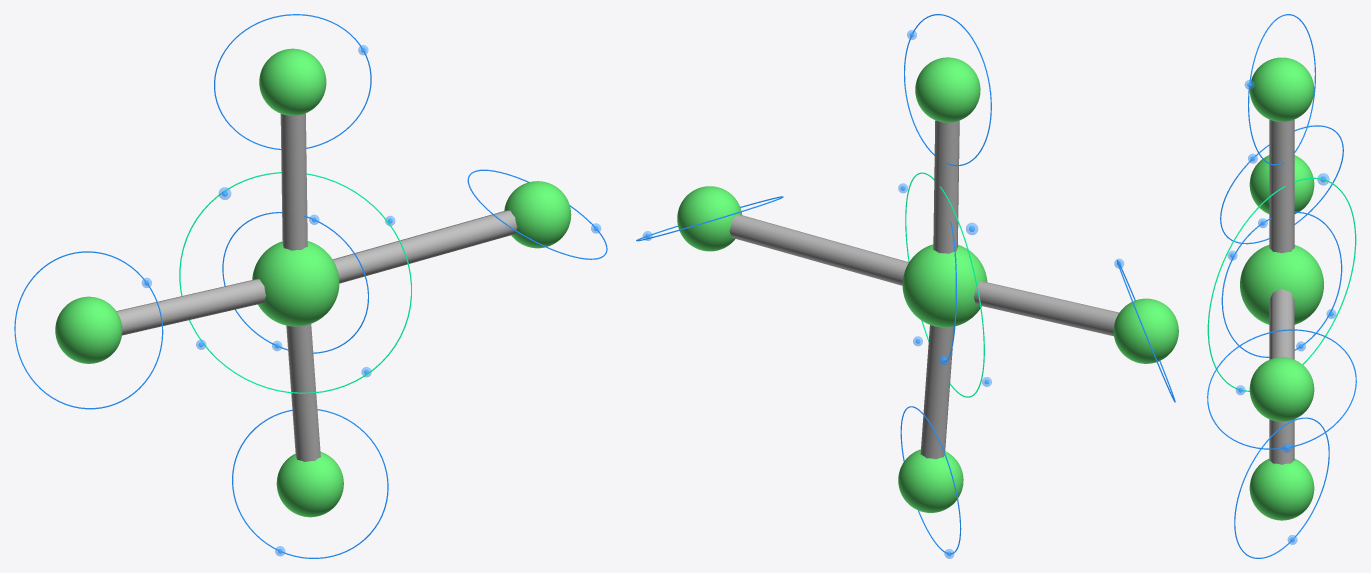
The picture shows the model from 3 angles, left to right: view 1: azimuth 30°, elevation 25°; view 2: azimuth 150°, elevation 25°; view 3: azimuth 270°, elevation 25°; orthographic projection. The views are drawn at different scales.
Visible parts, largest first — view 1: H (×4), C, object 34, object 32, object 33, object 35, object 7, object 17, object 29, object 21; view 2: H (×4), C, object 34, object 32, object 33, object 35, object 7, object 21; view 3: H (×4), C, object 33, object 34, object 35, object 7, object 25, object 29, object 2, object 21, object 17.
Part boxes in pixels (<box>): H (×4): <box>55,48,571,517</box>; C: <box>252,241,339,326</box>; object 34: <box>332,210,517,283</box>; object 32: <box>116,279,265,335</box>; object 33: <box>280,113,307,250</box>; object 35: <box>286,324,320,461</box>; object 7: <box>179,172,411,393</box>; object 17: <box>14,251,163,409</box>; object 29: <box>232,409,388,558</box>; object 21: <box>214,14,371,149</box>; H (×4): <box>677,57,1178,512</box>; C: <box>902,244,987,327</box>; object 34: <box>729,214,908,285</box>; object 32: <box>974,281,1118,336</box>; object 33: <box>933,120,959,253</box>; object 35: <box>920,325,953,459</box>; object 7: <box>905,172,984,397</box>; object 21: <box>904,14,991,166</box>; H (×4): <box>1249,57,1314,520</box>; C: <box>1240,245,1323,324</box>; object 33: <box>1269,119,1294,253</box>; object 34: <box>1269,289,1294,359</box>; object 35: <box>1269,419,1294,464</box>; object 7: <box>1207,177,1356,391</box>; object 25: <box>1207,329,1356,449</box>; object 29: <box>1234,417,1329,558</box>; object 2: <box>1221,211,1342,357</box>; object 21: <box>1248,14,1315,165</box>; object 17: <box>1220,125,1343,244</box>.
Size of the model in its own units: 9.9 by 9.24 by 2.38.
